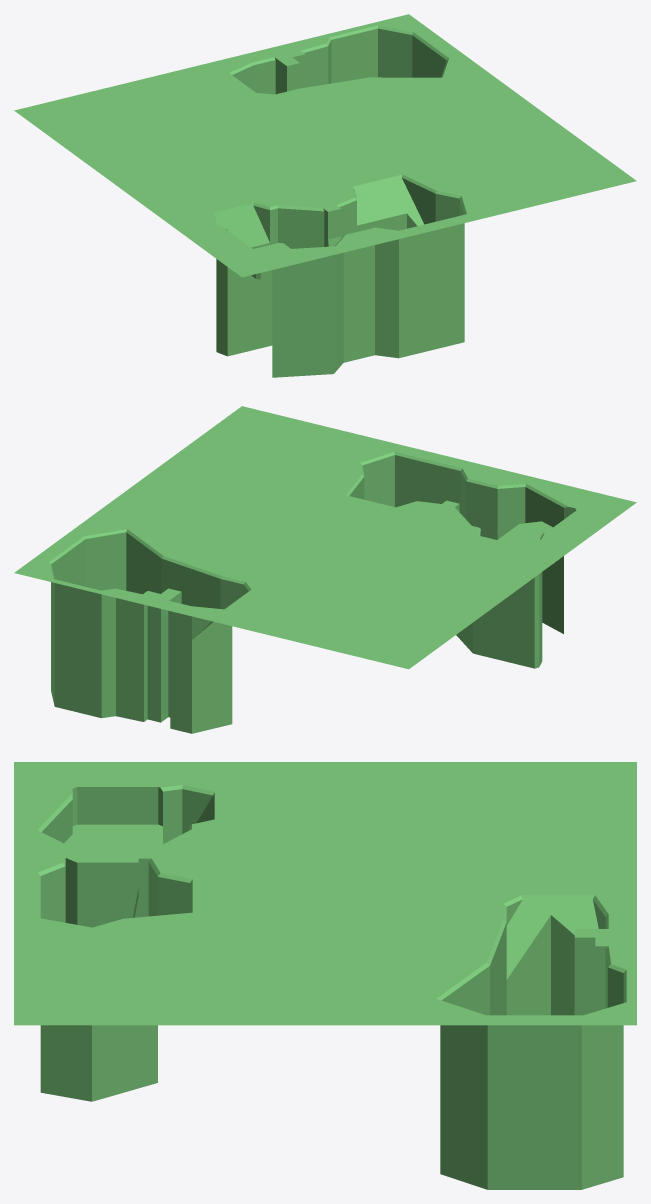
File: x_oo_ground_48_Y12_1_rmstrd.fbx
3 views of the same model, one above another, from view 1: azimuth 30°, elevation 25°; view 2: azimuth 150°, elevation 25°; view 3: azimuth 270°, elevation 25° (orthographic). The views are drawn at different scales.
Parts seen in each view (by area): view 1: x_oo_ground_48_Y12_1_rmstrd1; view 2: x_oo_ground_48_Y12_1_rmstrd1; view 3: x_oo_ground_48_Y12_1_rmstrd1.
Boxes of the visible parts, x1,y1,x2,y2 form: x_oo_ground_48_Y12_1_rmstrd1: [14, 14, 636, 377]; x_oo_ground_48_Y12_1_rmstrd1: [14, 406, 636, 733]; x_oo_ground_48_Y12_1_rmstrd1: [14, 762, 636, 1189].
Bounding box in the file's own units: 30 × 9.34 × 30.
